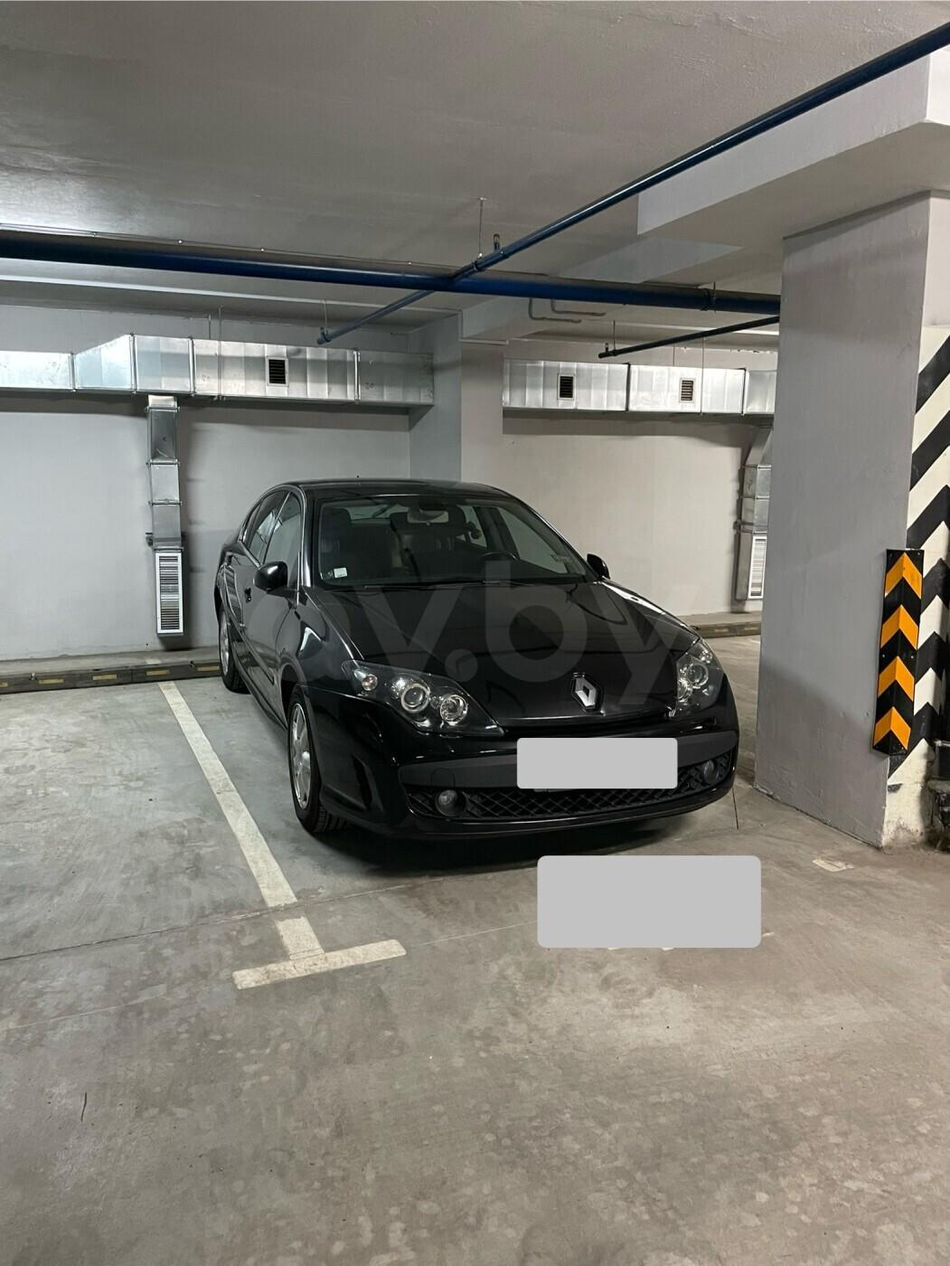Laguna_2007-2011: (213, 479, 738, 839)
